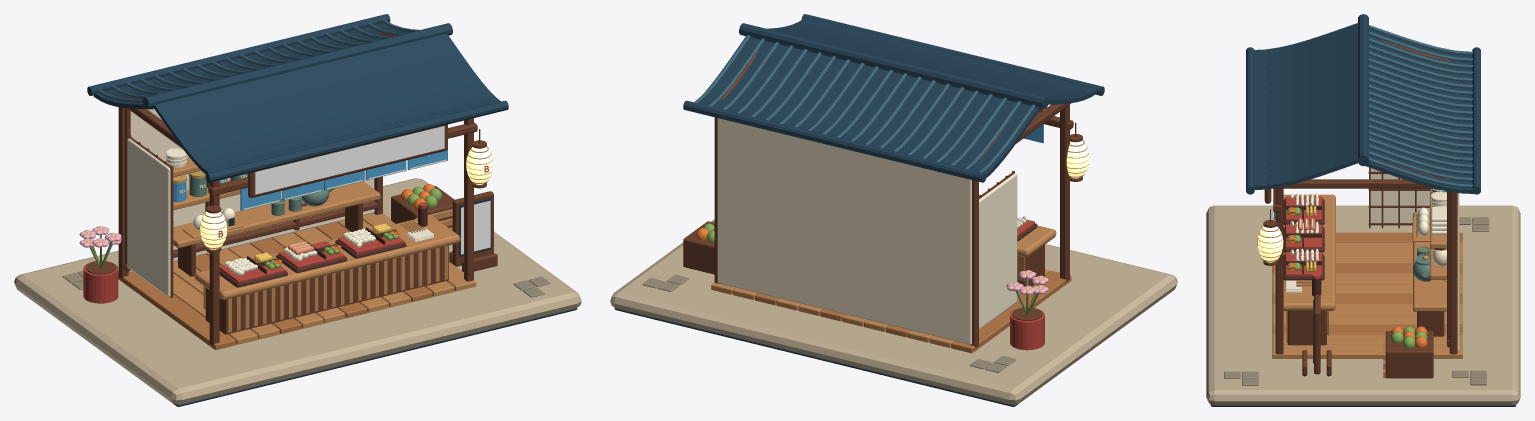
Rendered from bento-showroom.glb.
3 views of the same model, side by side, from view 1: azimuth 30°, elevation 25°; view 2: azimuth 150°, elevation 25°; view 3: azimuth 270°, elevation 25° (orthographic). The views are drawn at different scales.
Visible parts, largest first — view 1: Body_Shop_Foundation, RoofFront_Shop_Roof_slate, Body_Shop_Honey_timber, Body_Shop_Cedar, Body_Shop_Paper, RoofBack_Shop_Roof_slate, Shop_name_label, Body_Shop_Roof_slate, Body_Shop_End_grain, RoofBack_Shop_Roof_edge, Body_Shop_Cream_plaster, Body_Shop_Vermilion (+10 smaller); view 2: Body_Shop_Cream_plaster, Body_Shop_Foundation, RoofBack_Shop_Roof_slate, RoofBack_Shop_Roof_edge, RoofFront_Shop_Roof_slate, Body_Shop_Cedar, Body_Shop_Paper, Body_Shop_Roof_slate, Body_Shop_Honey_timber, Body_Shop_End_grain, Body_Shop_Vermilion, Body_Shop_Grout (+2 smaller); view 3: Body_Shop_Foundation, RoofFront_Shop_Roof_slate, Body_Shop_Honey_timber, RoofBack_Shop_Roof_edge, Body_Shop_Cedar, RoofBack_Shop_Roof_slate, Body_Shop_End_grain, Body_Shop_Paper, Body_Shop_Roof_slate, Body_Shop_Vermilion, Body_Shop_Dark_lacquer, Body_Shop_Grout (+6 smaller).
Part boxes in pixels (x1,y1,x2,y2): Body_Shop_Foundation: [14, 178, 581, 404]; RoofFront_Shop_Roof_slate: [153, 33, 508, 182]; Body_Shop_Honey_timber: [173, 146, 493, 344]; Body_Shop_Cedar: [85, 107, 497, 345]; Body_Shop_Paper: [127, 138, 434, 296]; RoofBack_Shop_Roof_slate: [87, 14, 408, 109]; Shop_name_label: [255, 126, 444, 194]; Body_Shop_Roof_slate: [143, 23, 577, 406]; Body_Shop_End_grain: [118, 222, 432, 349]; RoofBack_Shop_Roof_edge: [97, 19, 419, 103]; Body_Shop_Cream_plaster: [128, 109, 374, 272]; Body_Shop_Vermilion: [83, 165, 488, 303]; Body_Shop_Cream_plaster: [717, 118, 971, 344]; Body_Shop_Foundation: [610, 219, 1177, 404]; RoofBack_Shop_Roof_slate: [683, 36, 1040, 182]; RoofBack_Shop_Roof_edge: [694, 35, 1035, 172]; RoofFront_Shop_Roof_slate: [767, 14, 1104, 104]; Body_Shop_Cedar: [683, 103, 1082, 347]; Body_Shop_Paper: [979, 173, 1017, 329]; Body_Shop_Roof_slate: [614, 23, 1048, 406]; Body_Shop_Honey_timber: [711, 140, 1089, 347]; Body_Shop_End_grain: [755, 255, 1071, 353]; Body_Shop_Vermilion: [1010, 218, 1044, 350]; Body_Shop_Grout: [642, 274, 1016, 372]; Body_Shop_Foundation: [1206, 205, 1520, 405]; RoofFront_Shop_Roof_slate: [1246, 23, 1357, 194]; Body_Shop_Honey_timber: [1258, 188, 1462, 377]; RoofBack_Shop_Roof_edge: [1369, 25, 1473, 188]; Body_Shop_Cedar: [1263, 167, 1457, 378]; RoofBack_Shop_Roof_slate: [1365, 29, 1480, 194]; Body_Shop_End_grain: [1272, 232, 1462, 335]; Body_Shop_Paper: [1285, 168, 1446, 292]; Body_Shop_Roof_slate: [1210, 14, 1516, 406]; Body_Shop_Vermilion: [1257, 196, 1322, 279]; Body_Shop_Dark_lacquer: [1283, 198, 1324, 296]; Body_Shop_Grout: [1224, 217, 1489, 385].
Size of the model in its own units: 10.8 by 6.05 by 7.5.
